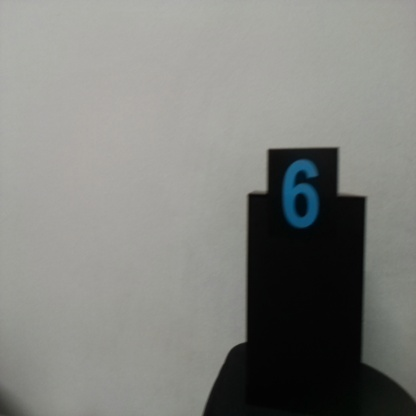id_6: (268, 150, 339, 254)
